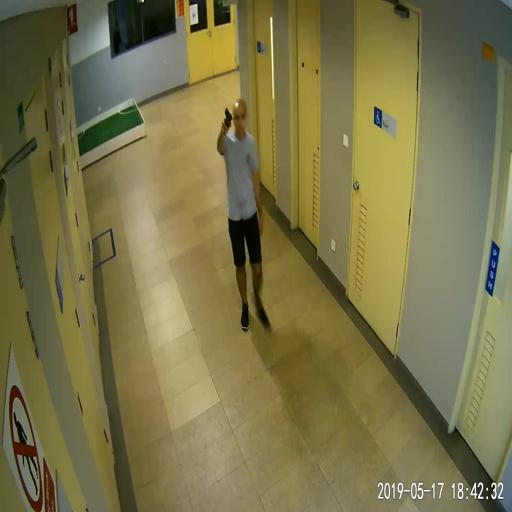pistol: (223, 107, 232, 132)
